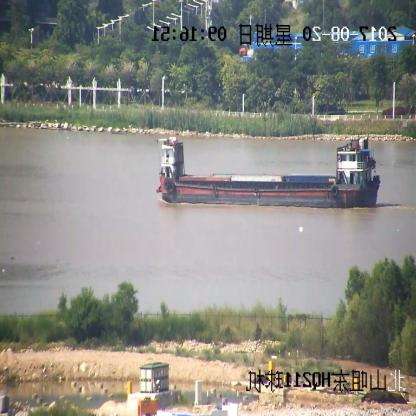Bulk Carrier: (156, 140, 382, 207)
